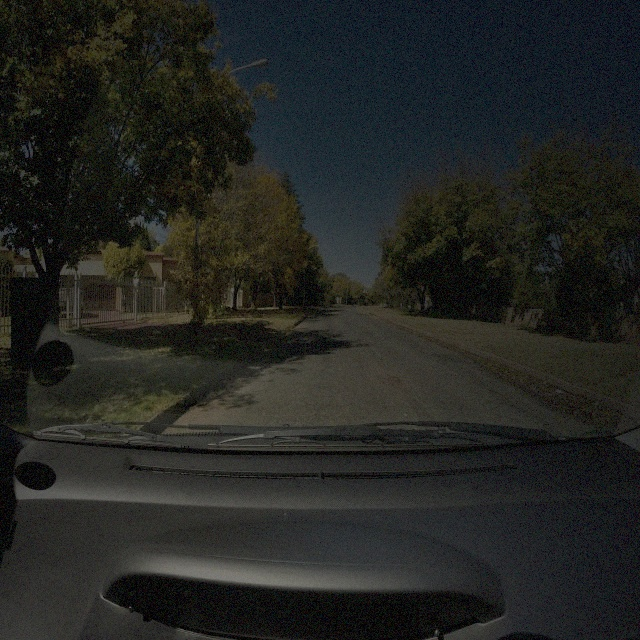pothole: (377, 374, 401, 389)
